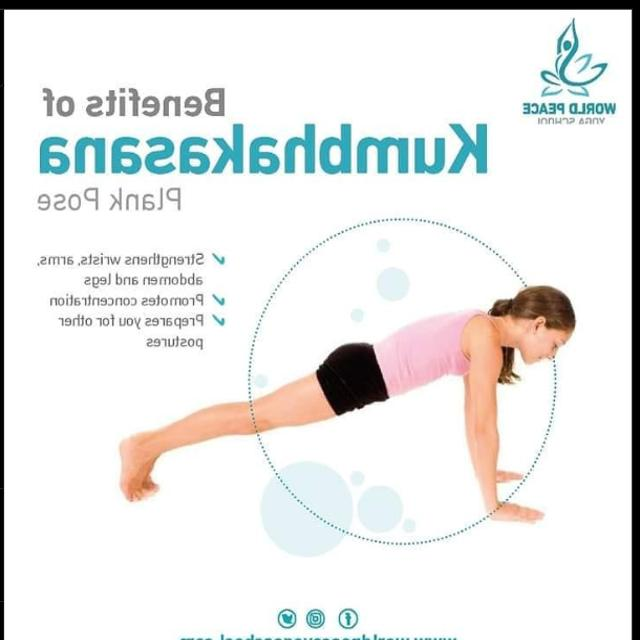Plank_Pose: (106, 280, 576, 536)
